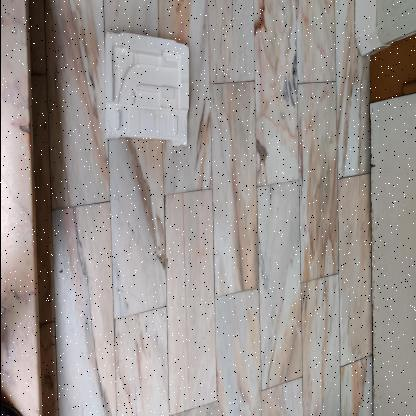other: (101, 26, 190, 150)
